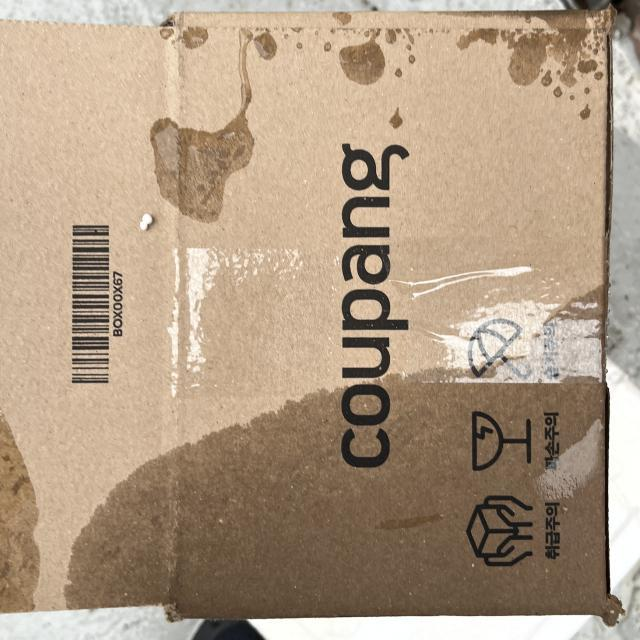wet: (69, 373, 617, 612), (149, 90, 260, 223), (450, 29, 622, 99), (0, 416, 38, 613), (321, 37, 394, 85)
